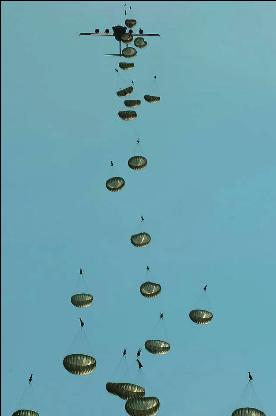C2: (76, 25, 160, 57)
